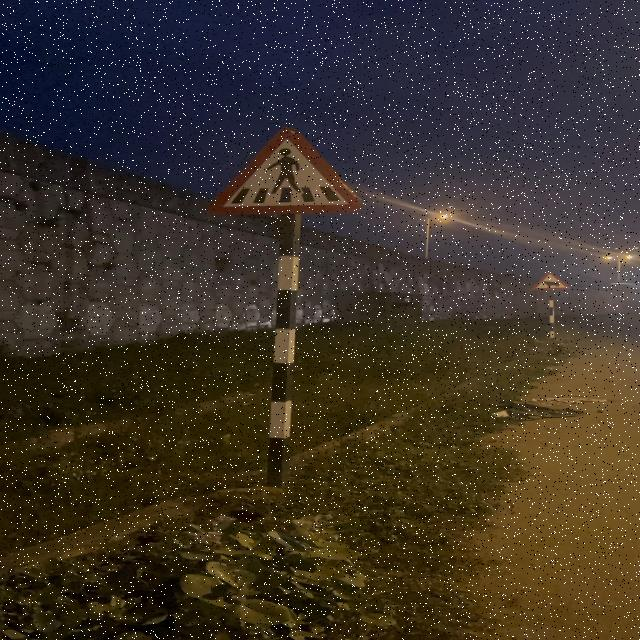Pedestrain_crossing: (205, 130, 359, 218)
